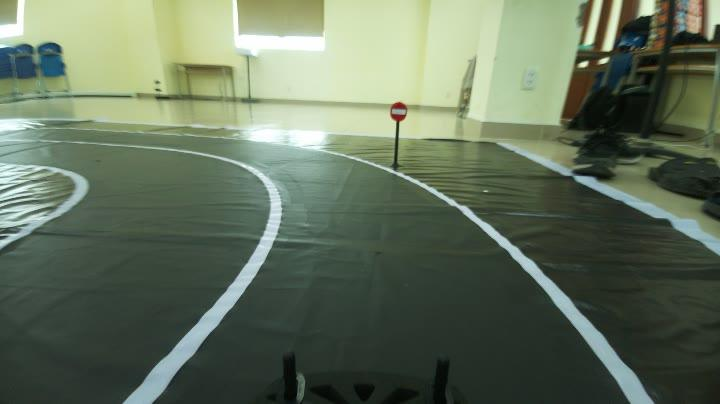no_entry: (382, 96, 412, 124)
